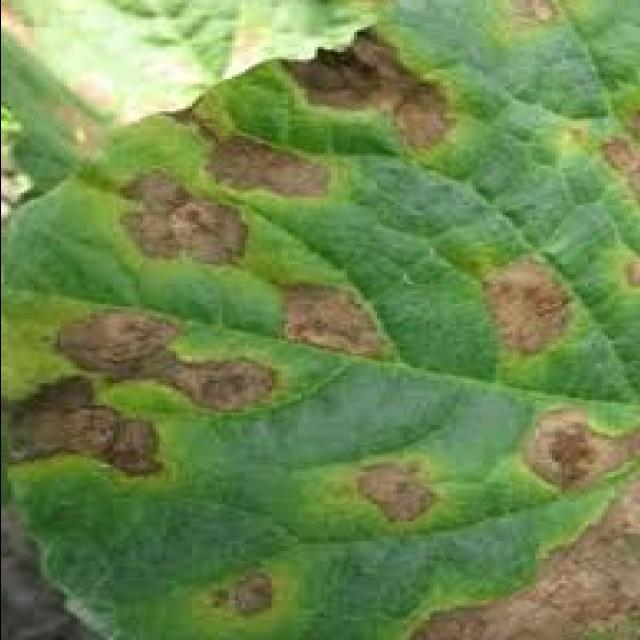bercak_daun: (13, 166, 486, 502)
